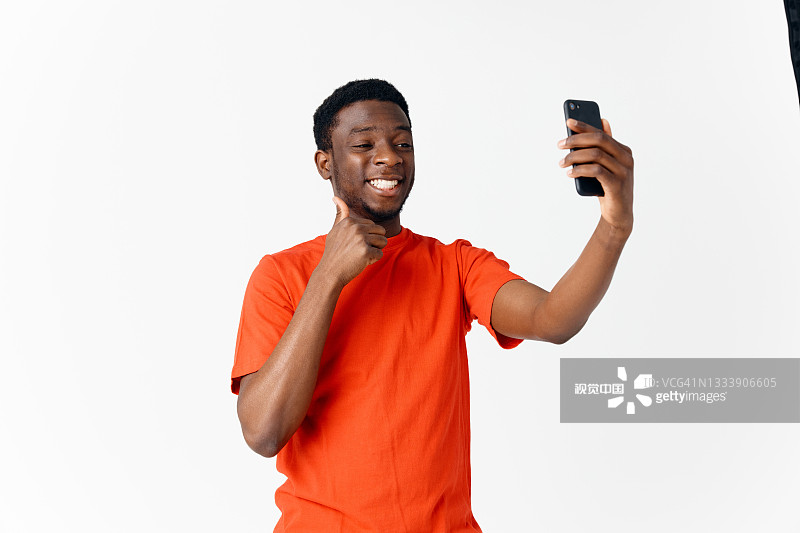no-phone: (312, 186, 392, 294)
taking photos: (545, 80, 645, 238)
